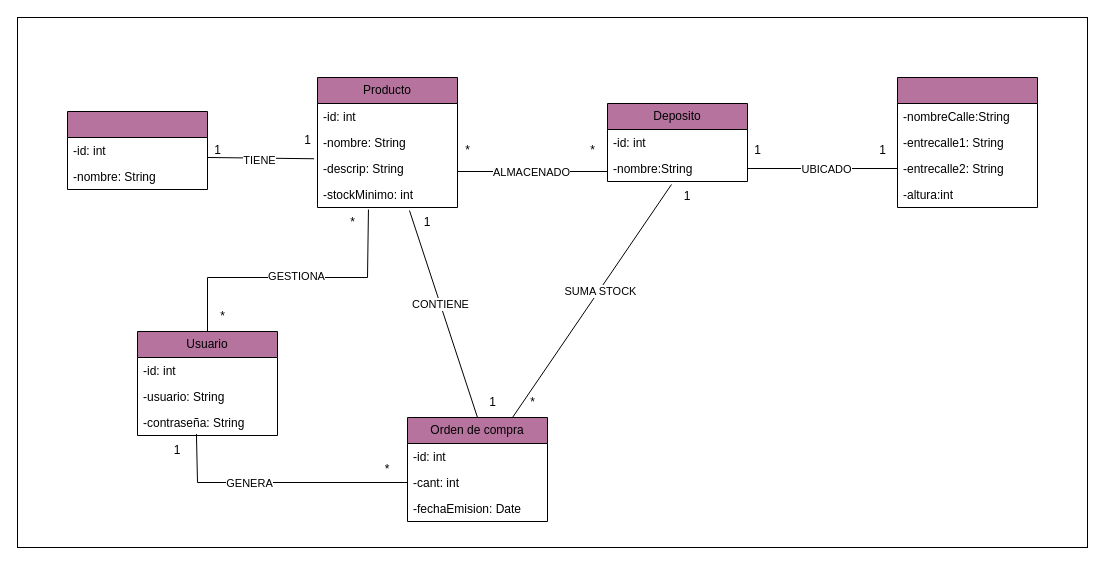
Some shapes in this 1105 by 565 pixel diagram are drawn without their labels. Each missing label, with the box of its shape:
Categoria: (66, 110, 208, 190)
Ubicación: (896, 76, 1038, 208)
